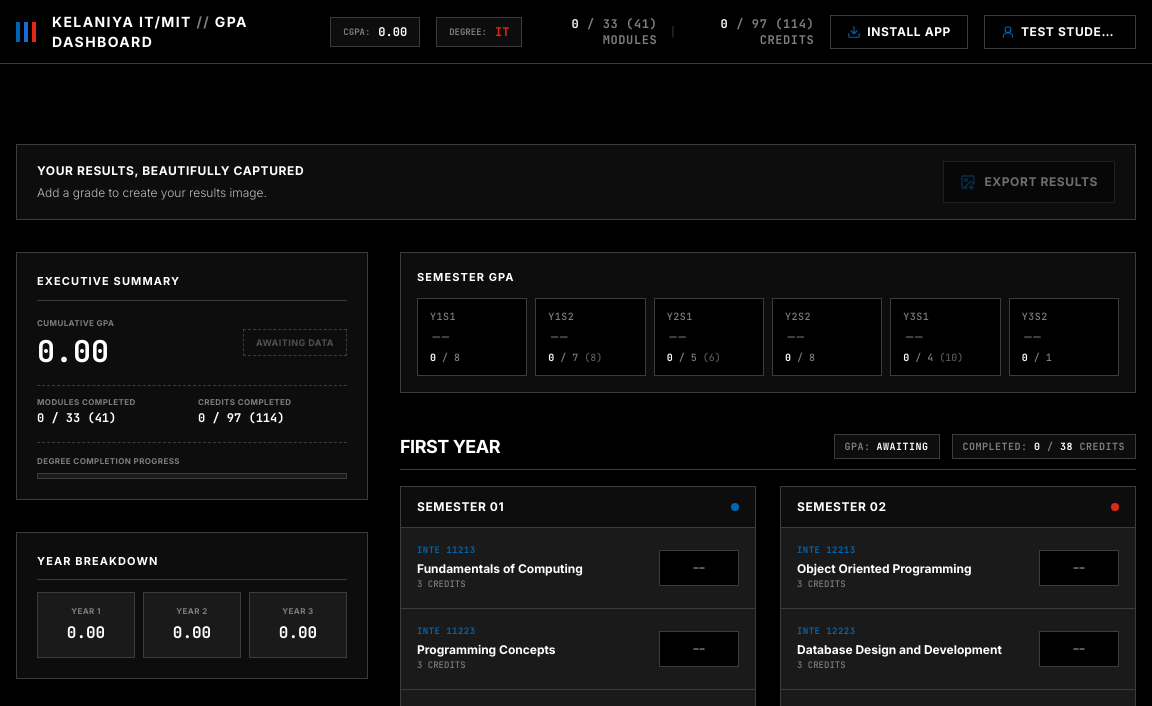
Test: App — profiles on the dashboard › opens the profile menu from the navbar
This screenshot has width=1152, height=706.
Click the button titled "Profiles": (1060, 32) [984,14,1136,48]
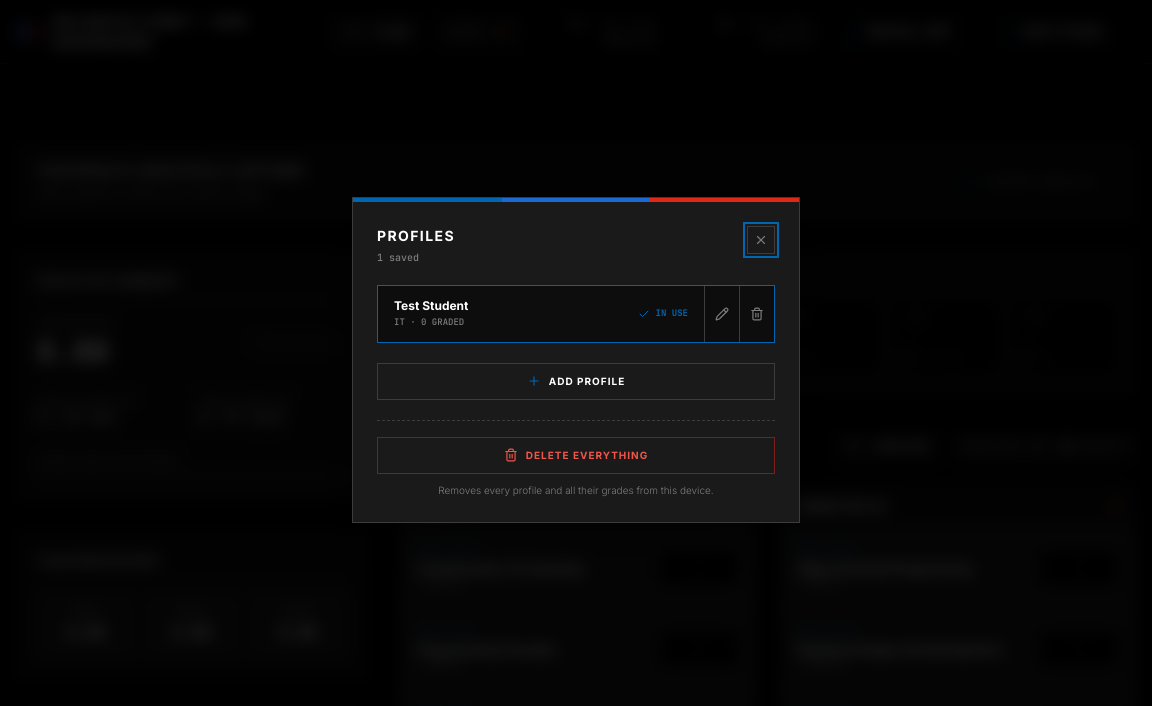
Check: the dialog "PROFILES" is shown, box [352,197,800,523]
